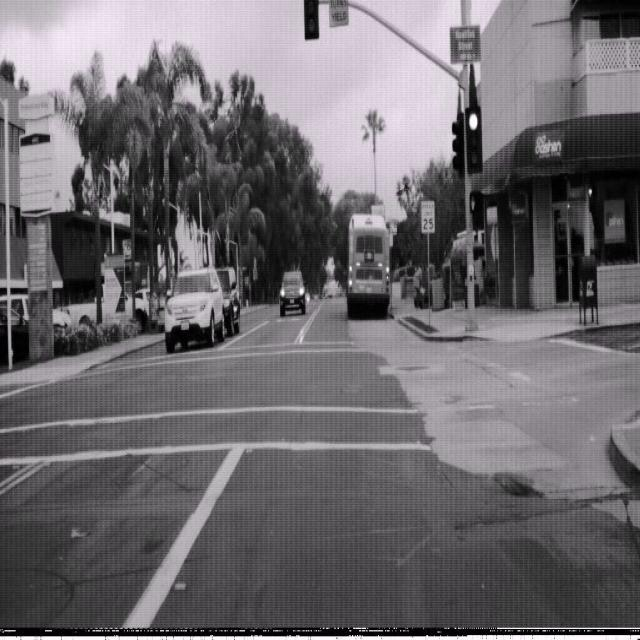speedLimit25: (420, 199, 435, 234)
